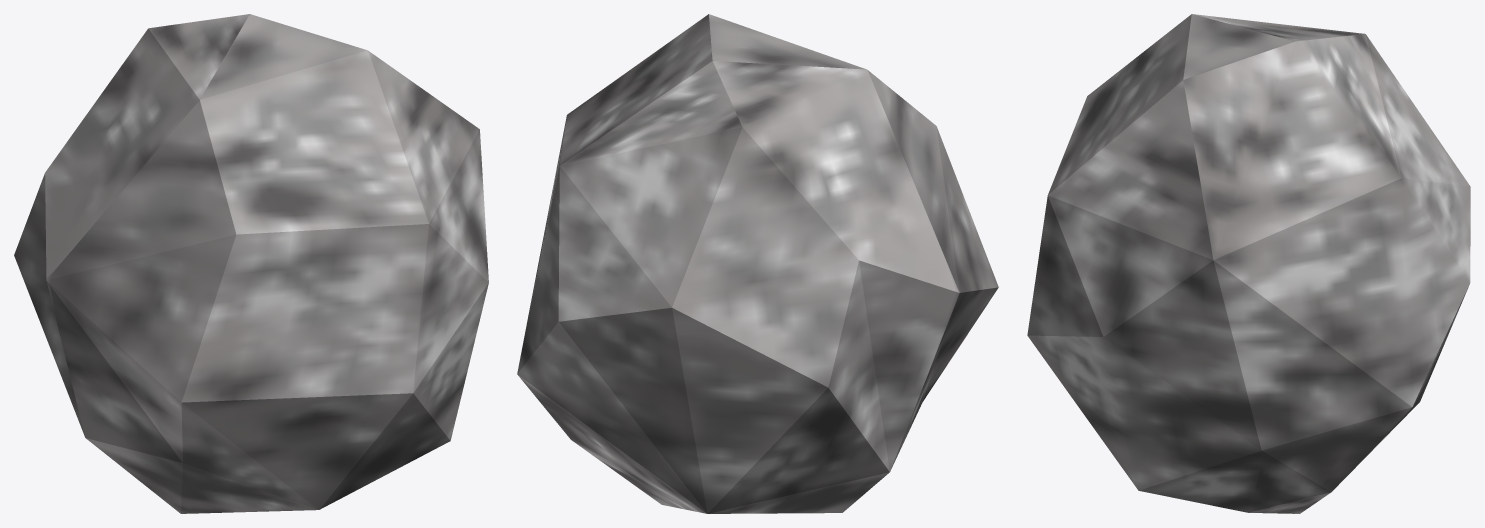
Rendered from big_rock_v1.glb.
3 renders of one model, left to right at view 1: azimuth 30°, elevation 25°; view 2: azimuth 150°, elevation 25°; view 3: azimuth 270°, elevation 25°, orthographic.
Parts seen in each view (by area): view 1: Sphere.002; view 2: Sphere.002; view 3: Sphere.002.
Part boxes in pixels (<box>): Sphere.002: <box>14,14,488,513</box>; Sphere.002: <box>517,14,998,513</box>; Sphere.002: <box>1027,14,1470,513</box>.
Size of the model in its own units: 7.02 by 7.4 by 6.62.
Materials: 1 (1 with a texture image).
